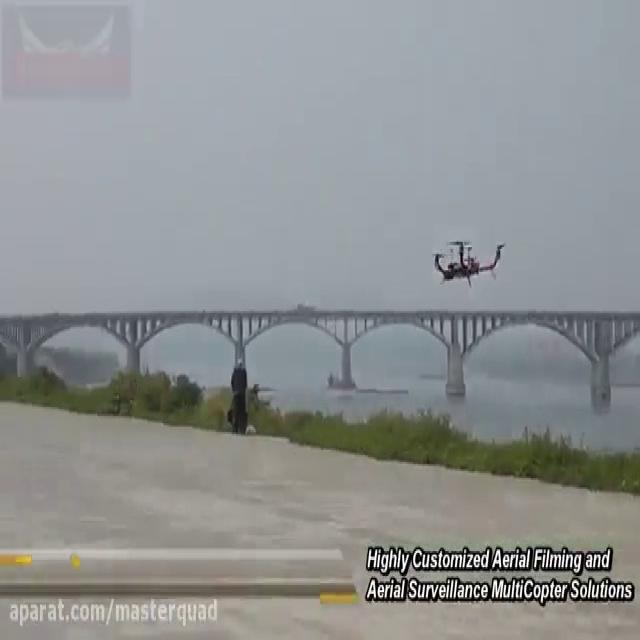drone: (428, 231, 510, 290)
